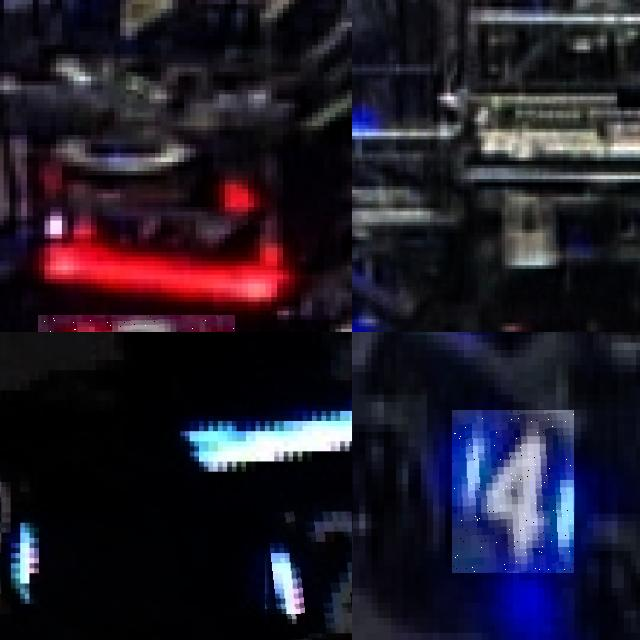B2: (255, 502, 352, 639)
B4: (452, 410, 574, 573)
